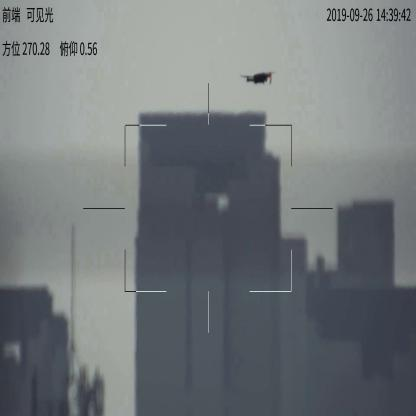uav: (240, 69, 277, 88)
